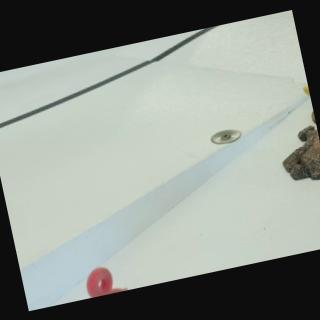teletubby: (86, 267, 127, 297), (303, 85, 309, 95)
